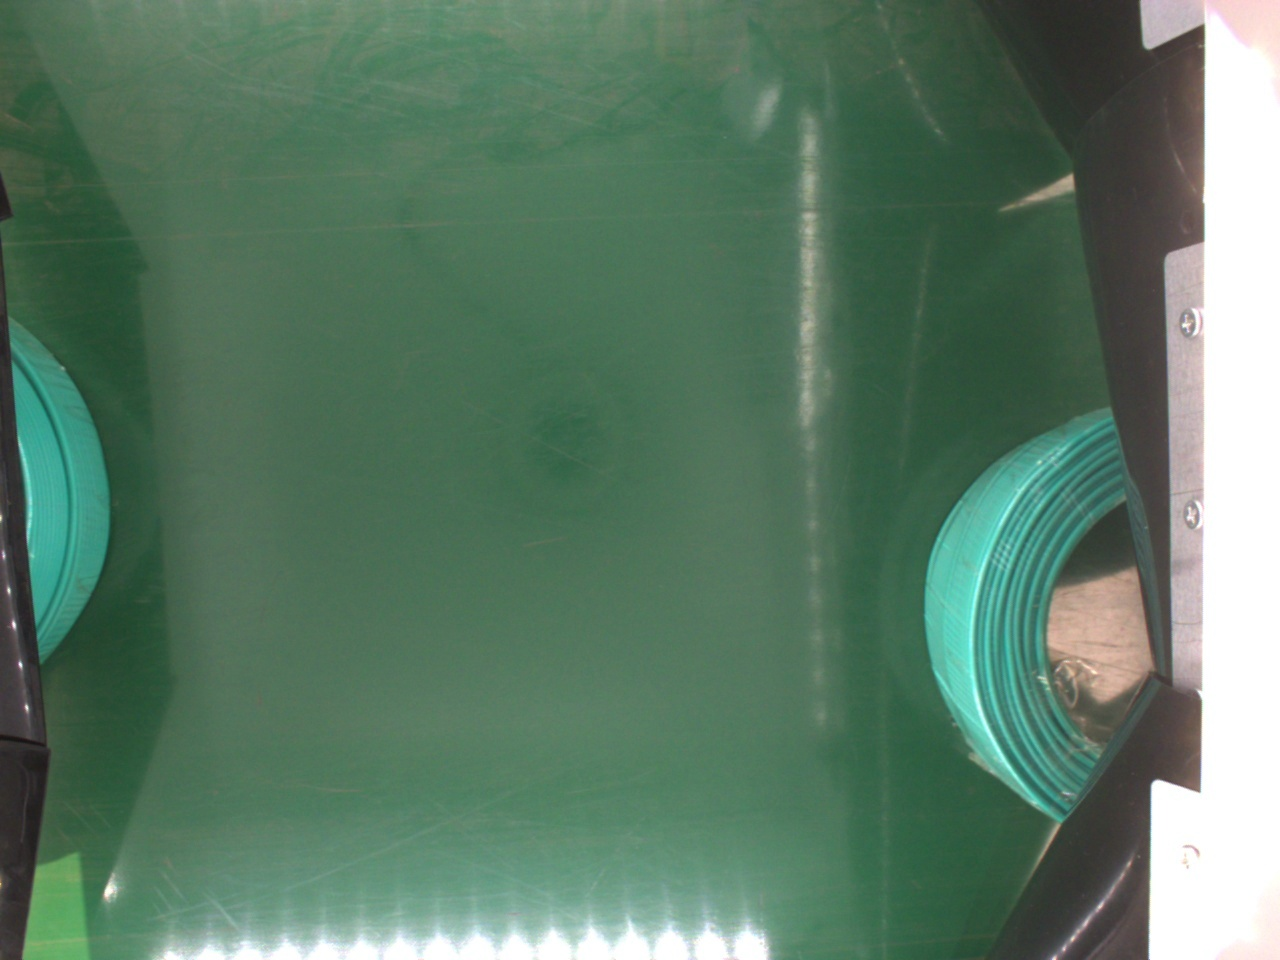green: (921, 409, 1141, 819), (4, 310, 118, 649)
